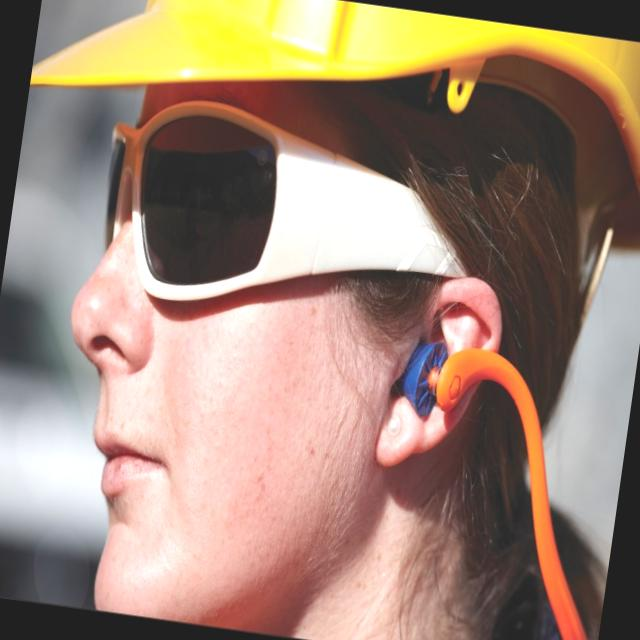goggles: (85, 82, 499, 356)
helmet: (21, 0, 640, 231)
